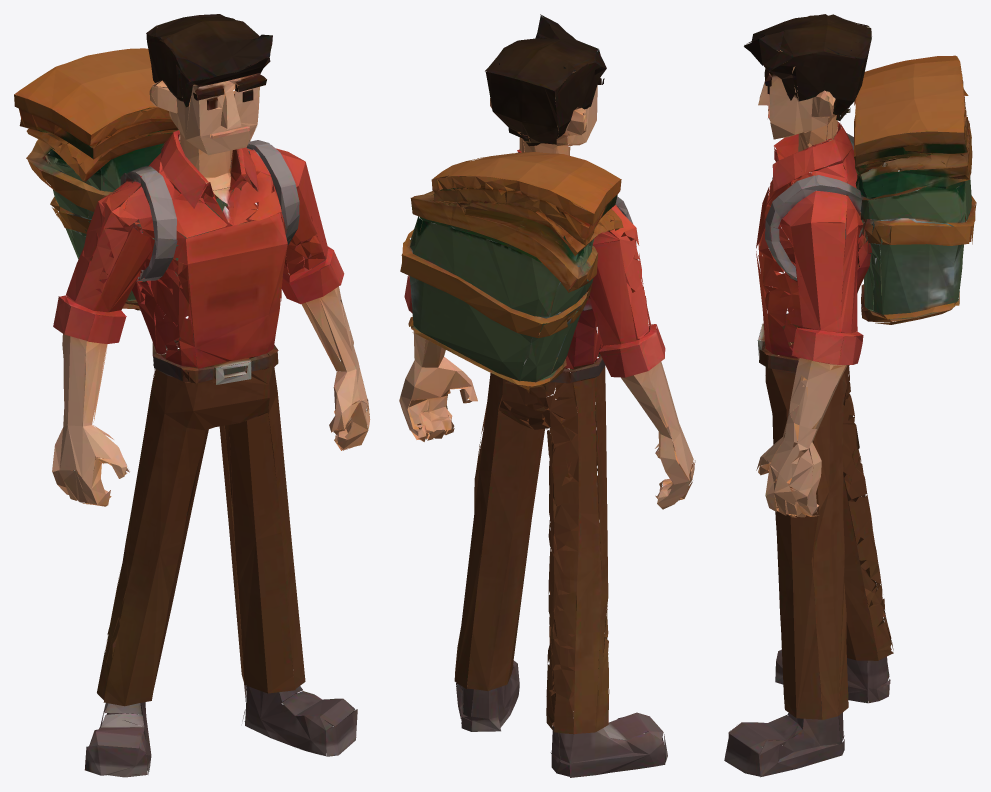
The model's file is habitant.glb.
The picture shows the model from 3 angles, left to right: view 1: azimuth 30°, elevation 25°; view 2: azimuth 150°, elevation 25°; view 3: azimuth 270°, elevation 25°; orthographic projection. The views are drawn at different scales.
Parts seen in each view (by area): view 1: world; view 2: world; view 3: world.
Part boxes in pixels (x1=…): world: x1=14, y1=14, x2=370, y2=777; world: x1=399, y1=14, x2=695, y2=777; world: x1=724, y1=14, x2=976, y2=777.
Size of the model in its own units: 0.4503 by 1 by 0.3274.
Materials: 1 (1 with a texture image).
